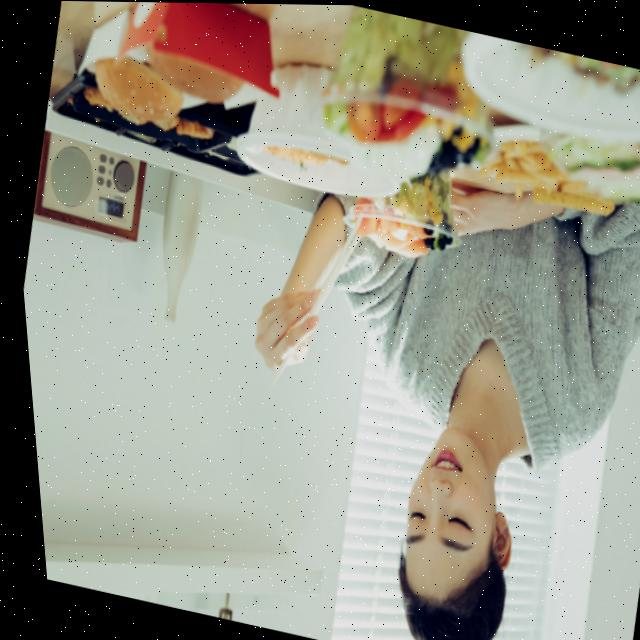eating-person: (173, 83, 640, 640)
